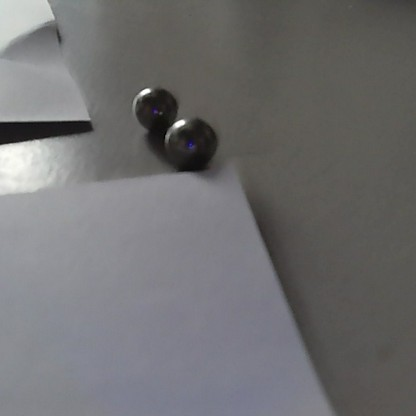ironball: (167, 118, 218, 169), (129, 83, 181, 130)
